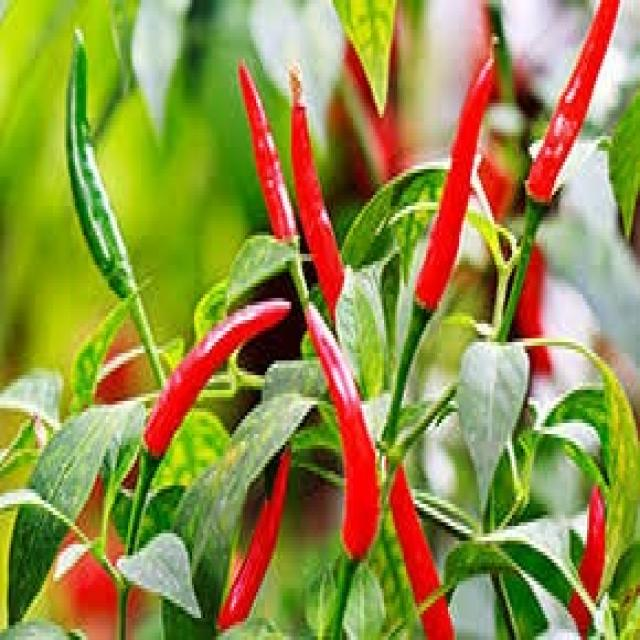Mosaic_virus: (0, 29, 640, 640)
